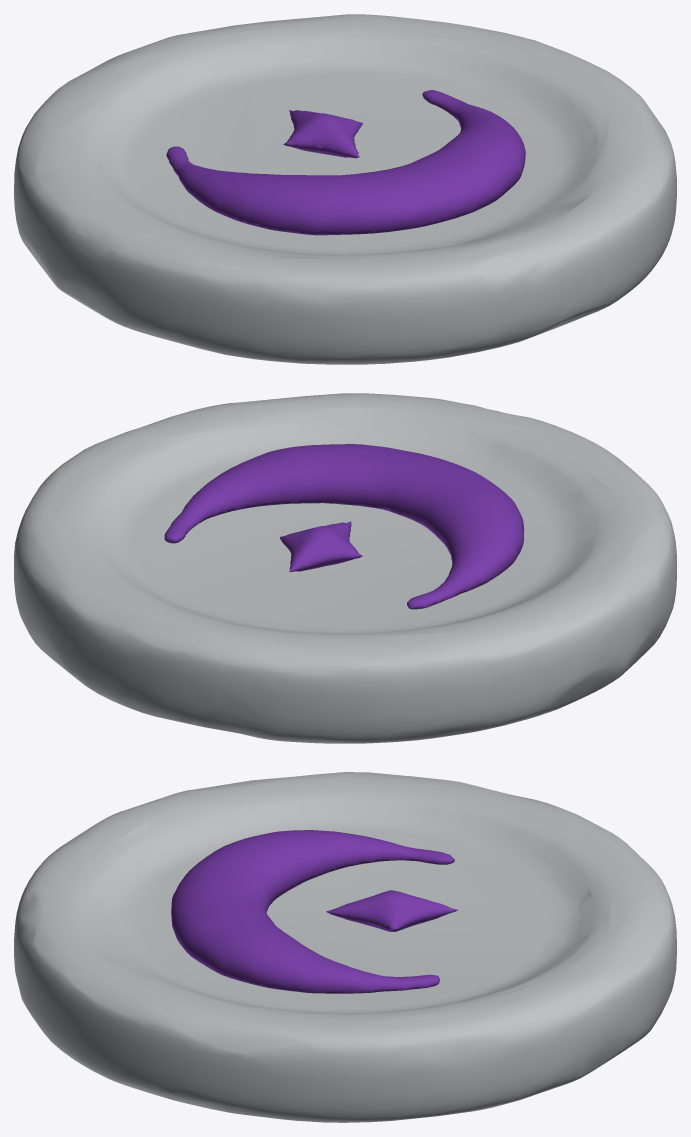
The model's file is token-mage-blue-draco.glb.
3 renders of one model, top to bottom at view 1: azimuth 30°, elevation 25°; view 2: azimuth 150°, elevation 25°; view 3: azimuth 270°, elevation 25°, orthographic.
Visible parts, largest first — view 1: token_mage_blue; view 2: token_mage_blue; view 3: token_mage_blue.
Part boxes in pixels (x1=…): token_mage_blue: x1=14, y1=14, x2=676, y2=364; token_mage_blue: x1=14, y1=393, x2=676, y2=743; token_mage_blue: x1=14, y1=772, x2=676, y2=1122.
Bounding box in the file's own units: 0.4139 × 0.0739 × 0.414.
